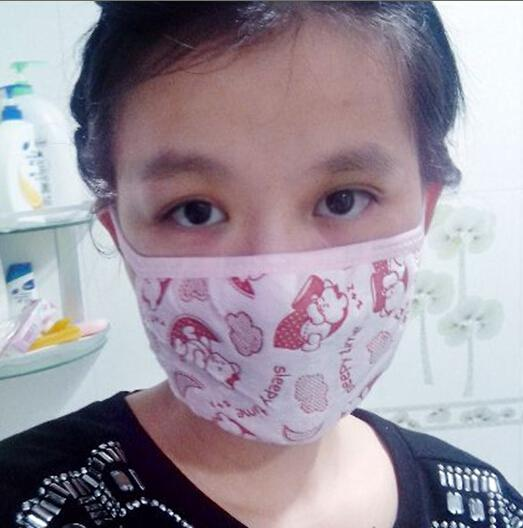OK: (119, 101, 449, 431)
